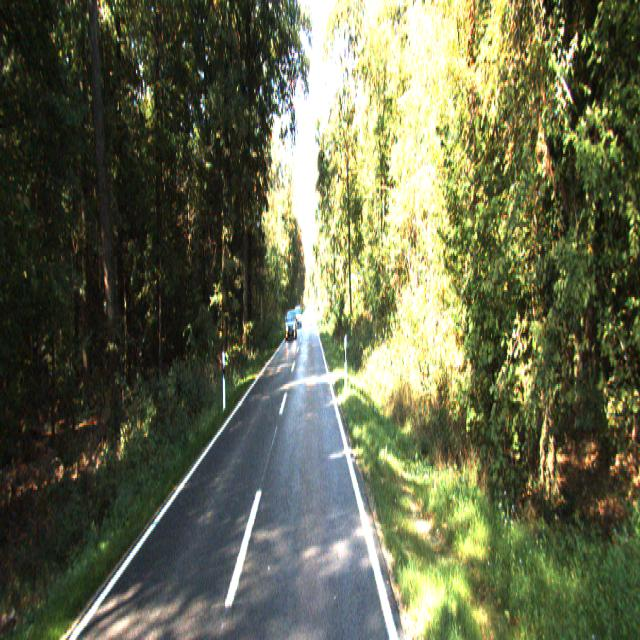Car: (285, 309, 297, 341)
